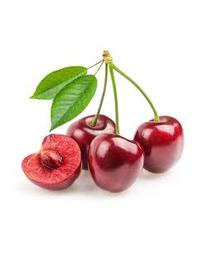cherry: (21, 133, 83, 192), (89, 134, 144, 193), (133, 114, 184, 175), (67, 115, 115, 170)
